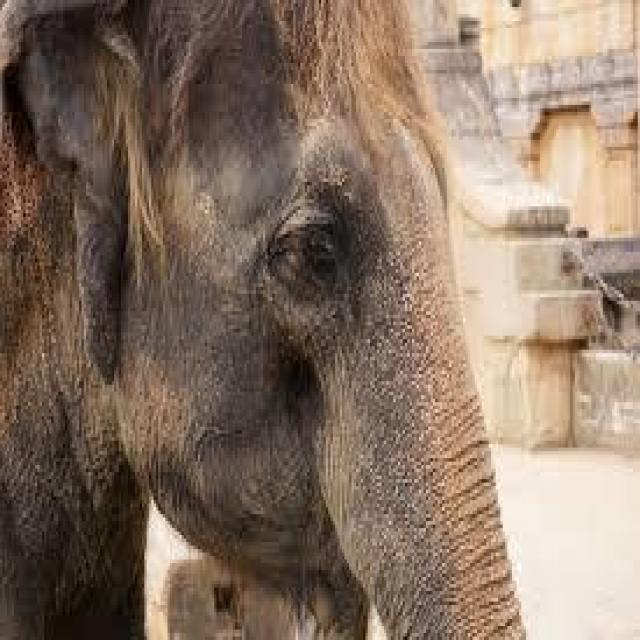Elephant: (0, 0, 519, 637)
